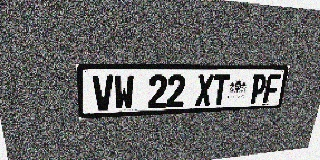2: (148, 75, 168, 109), (166, 74, 186, 108)
F: (263, 74, 281, 103)
P: (249, 74, 268, 104)
T: (211, 74, 230, 105)
V: (92, 75, 114, 111)
W: (114, 75, 134, 110)
X: (195, 74, 214, 106)
